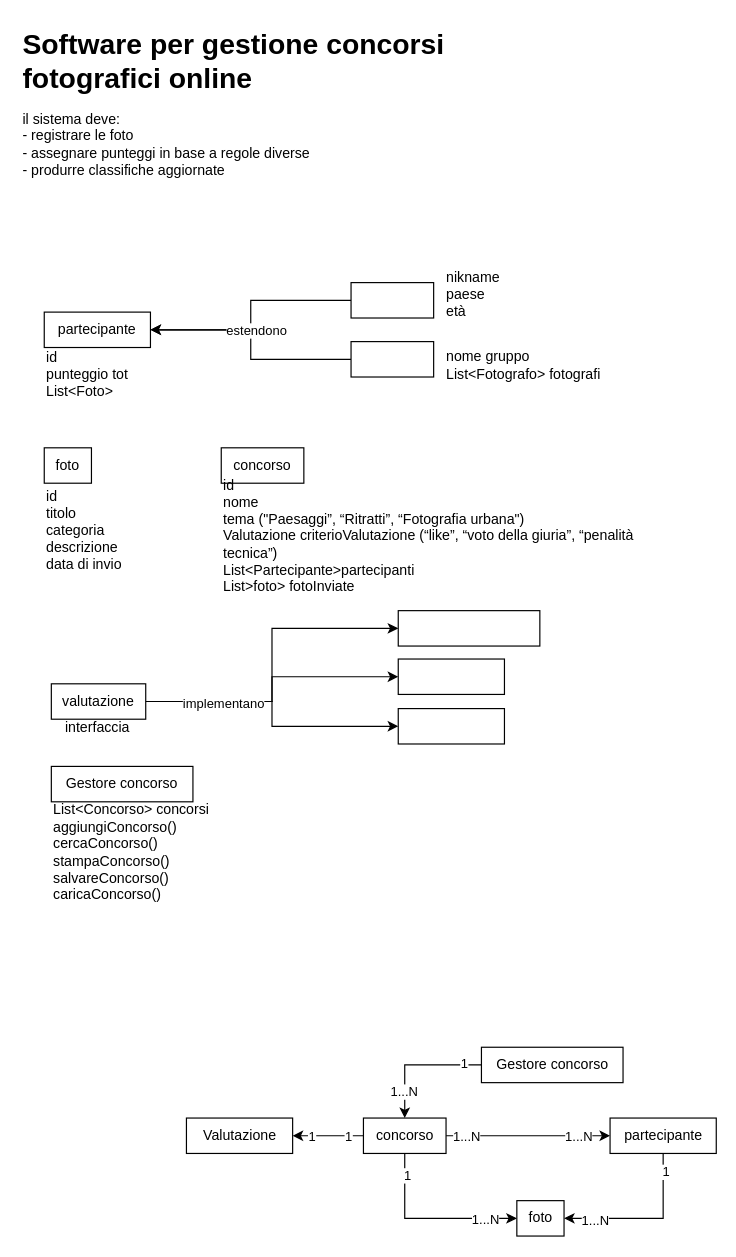
The diagram is 736 pixels wide and 1257 high, and some of its shapes have lost their labels. The centre of each missing label's shape, as x and y in pixels:
collettivo: (392,358)
fotografo: (392,299)
RegolaGiuria: (450,676)
RegolaMista: (450,725)
RegolaPopolarita: (468,627)
